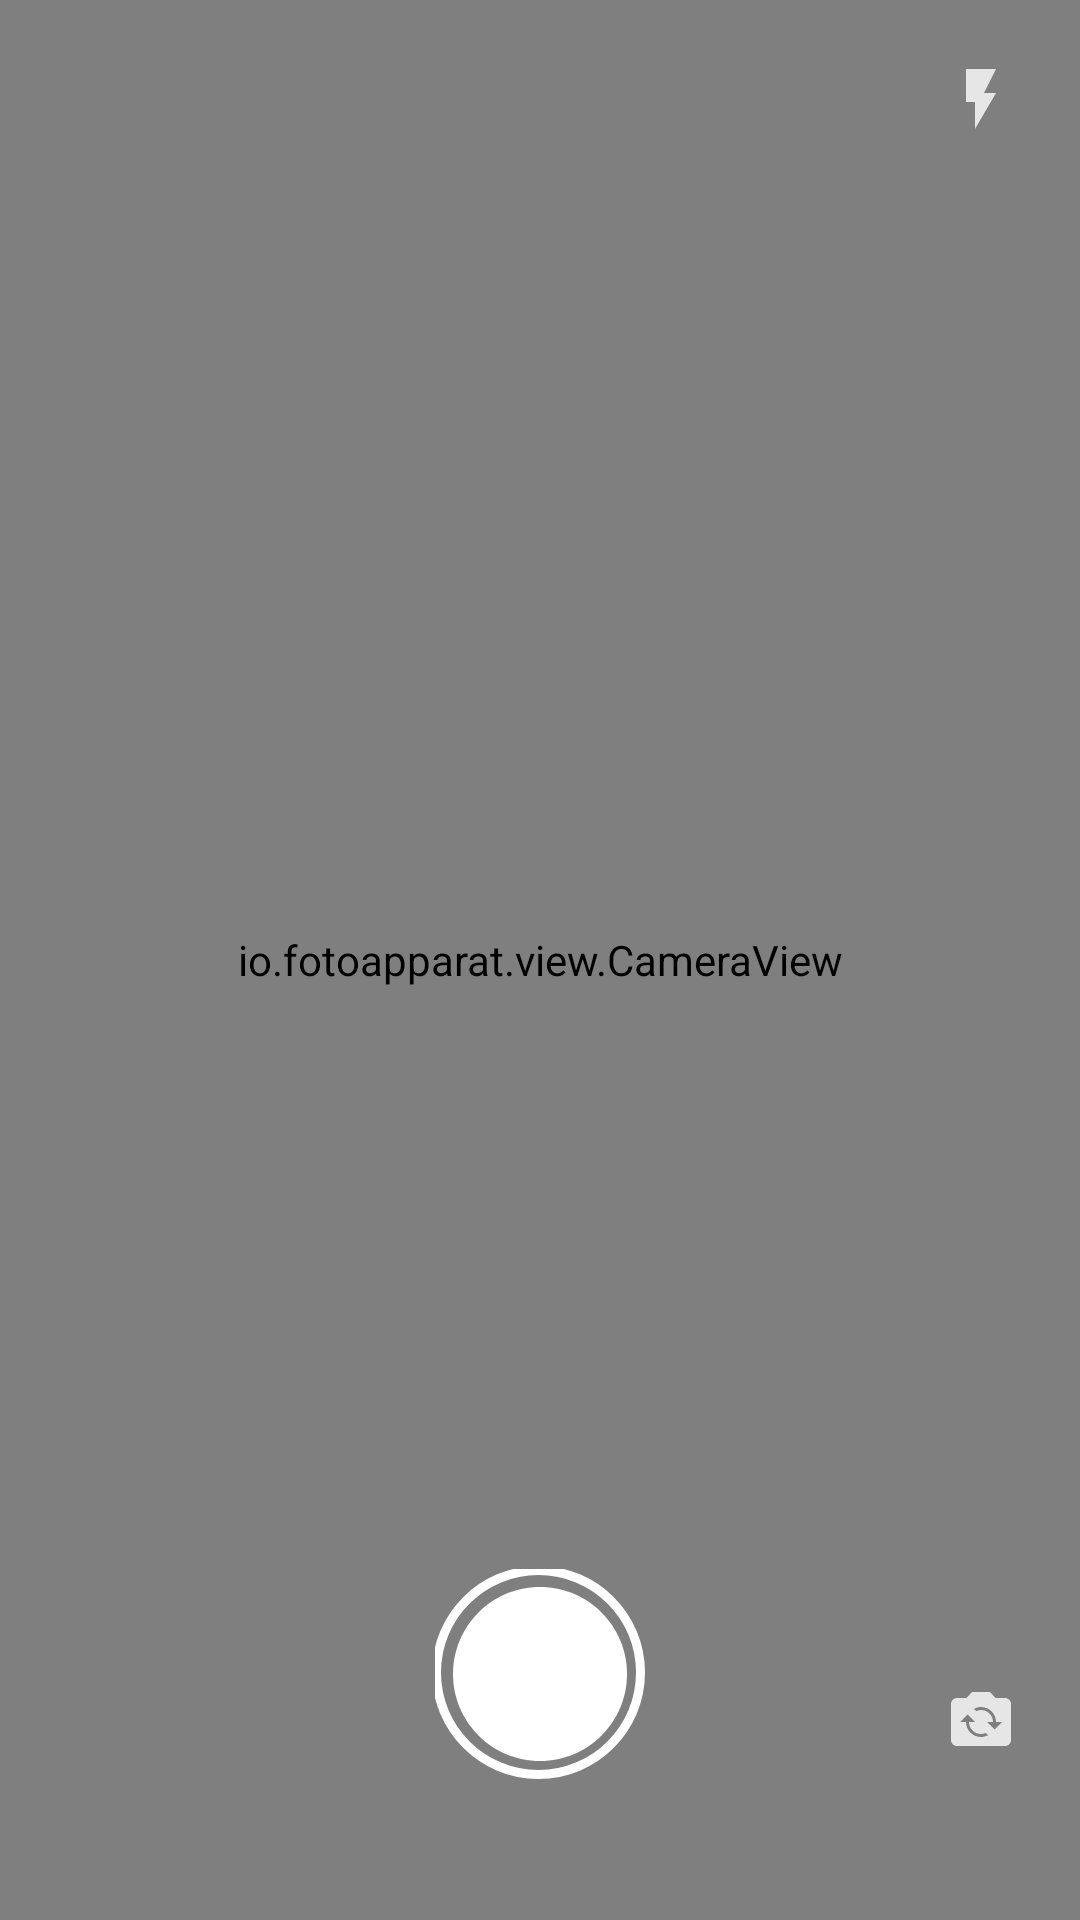

Screen size 1080 x 1920. Icon name, then its box in pixels as (x1, y1, x2, y2):
flash: (966, 69, 996, 129)
front: (951, 1692, 1011, 1746)
oval: (435, 1569, 645, 1779)
